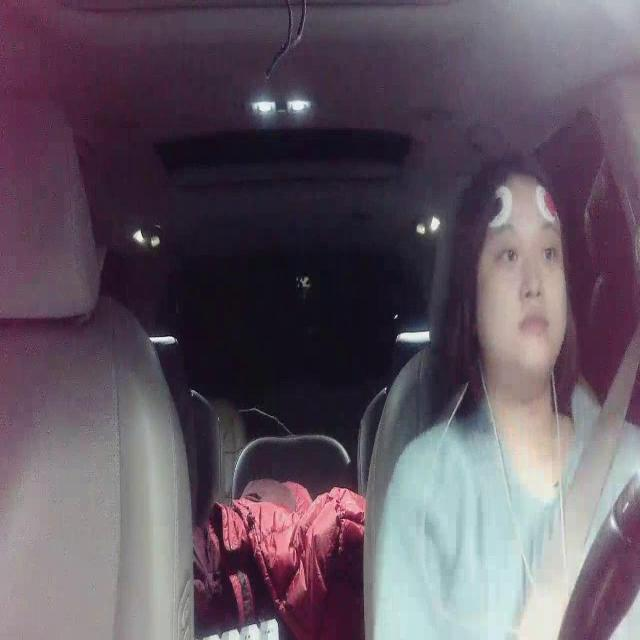Attentive: (458, 151, 575, 379)
